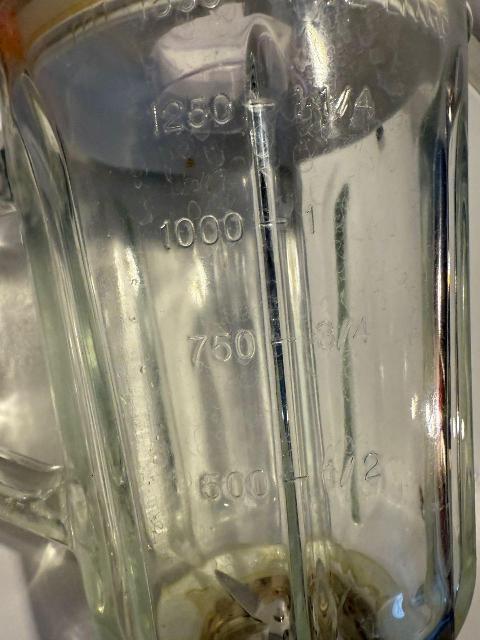Cam: (0, 2, 474, 640)
